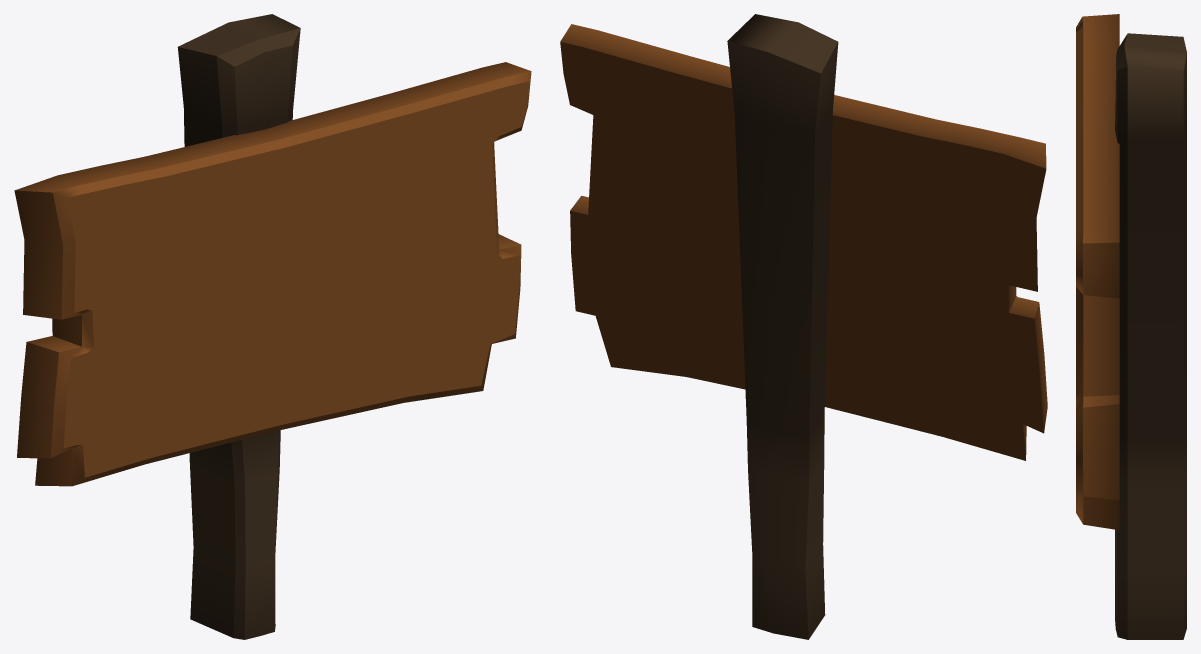
File: SignBoard.fbx
3 renders of one model, left to right at view 1: azimuth 30°, elevation 25°; view 2: azimuth 150°, elevation 25°; view 3: azimuth 270°, elevation 25°, orthographic.
Parts seen in each view (by area): view 1: SignBoard; view 2: SignBoard; view 3: SignBoard.
Boxes of the visible parts, bbox=[...] form: SignBoard: bbox=[14, 14, 531, 639]; SignBoard: bbox=[560, 14, 1047, 639]; SignBoard: bbox=[1076, 14, 1186, 639].
Size of the model in its own units: 1554 by 1767 by 303.
